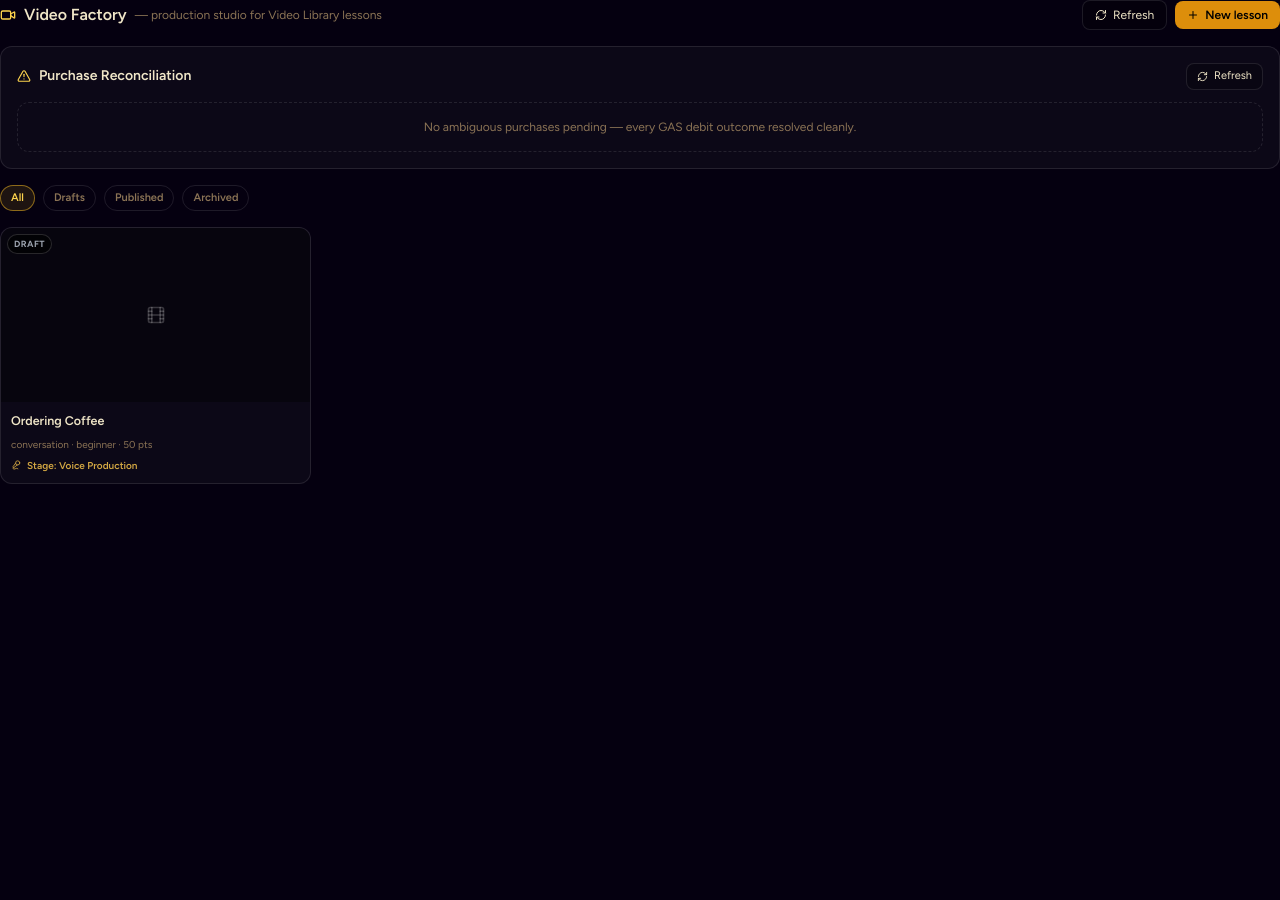
Pipeline stage renders the Gemini step storyline
Click the button with test id "video-factory-lesson-vid_1": click(156, 355) x1=0 y1=227 x2=311 y2=484
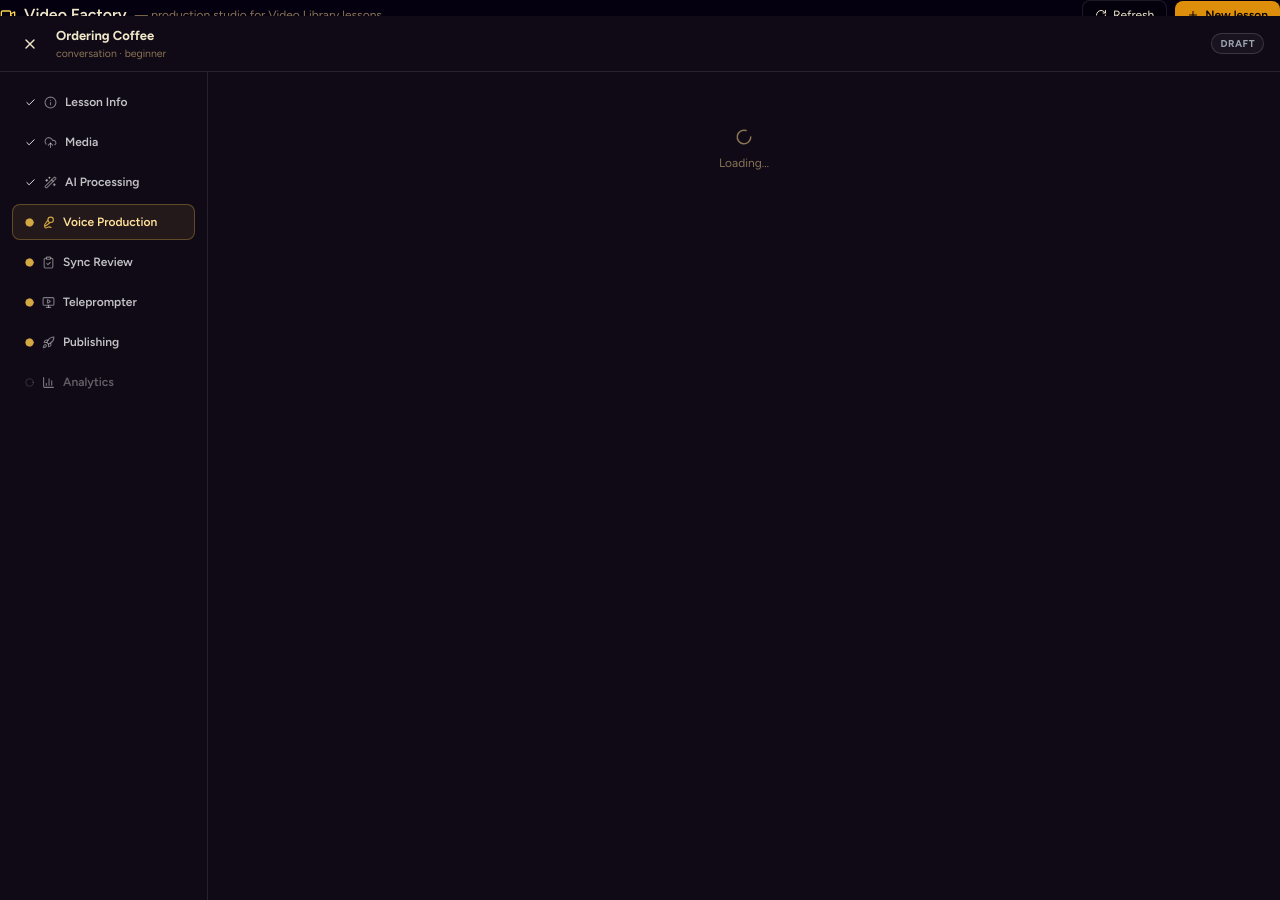
Click the button with test id "production-stage-pipeline": click(104, 182) x1=12 y1=164 x2=195 y2=200
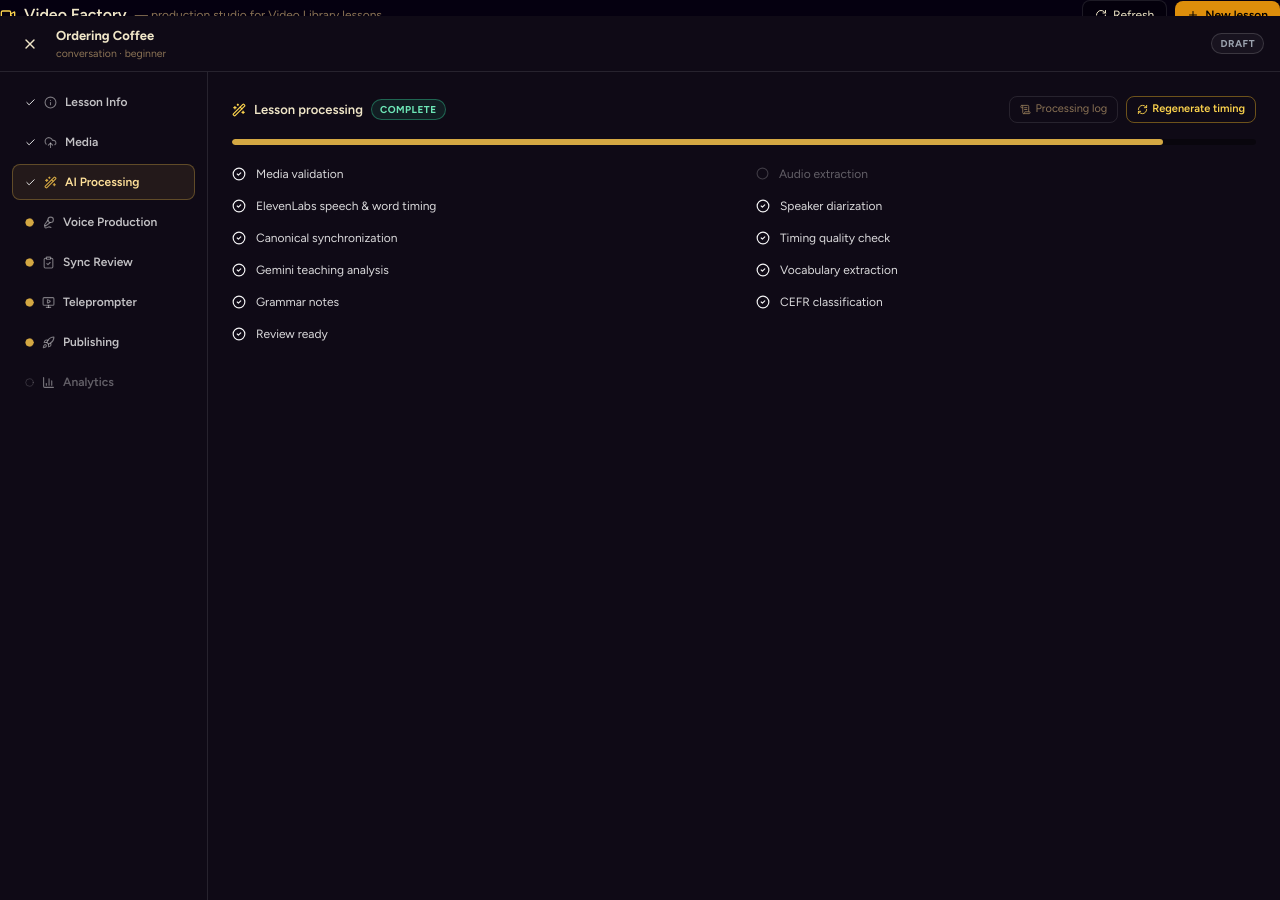
Check: the element with test id "pipeline-steps" is shown, box x1=232 y1=167 x2=898 y2=341
Check: the text with test id "pipeline-state-badge" reads "Complete", box x1=380 y1=103 x2=437 y2=116
Click the button with test id "pipeline-log-toggle": click(1064, 110) x1=1010 y1=96 x2=1118 y2=123
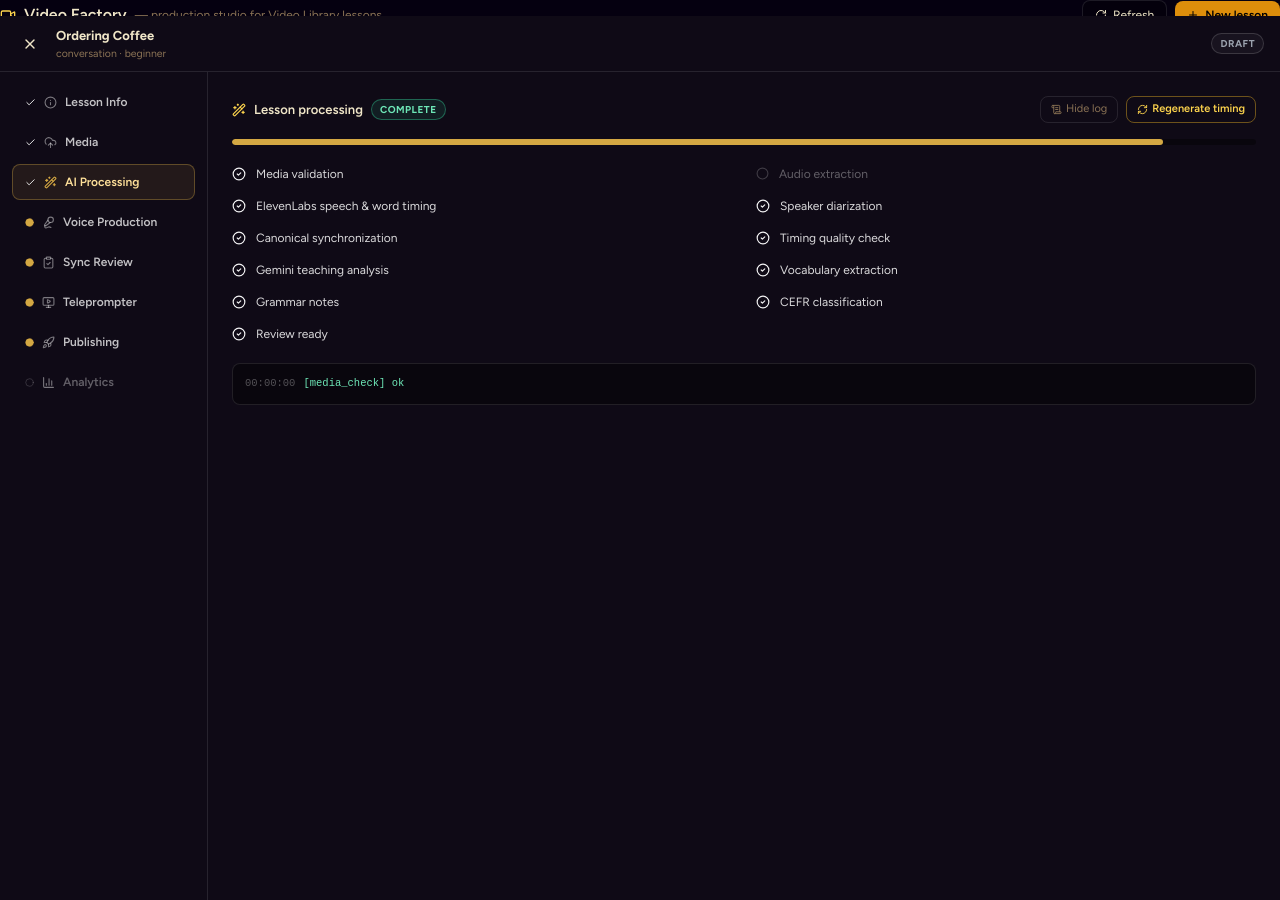
Check: the element with test id "pipeline-log" is shown, box x1=232 y1=363 x2=1256 y2=405
